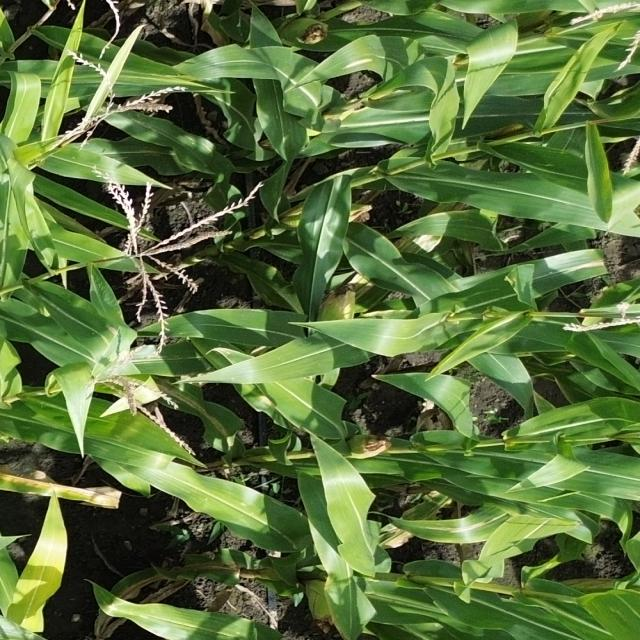gray-leaf-spot: (324, 39, 402, 90)
northern-leaf-blight: (7, 461, 146, 523)
southern-leaf-blight: (102, 416, 243, 522)
